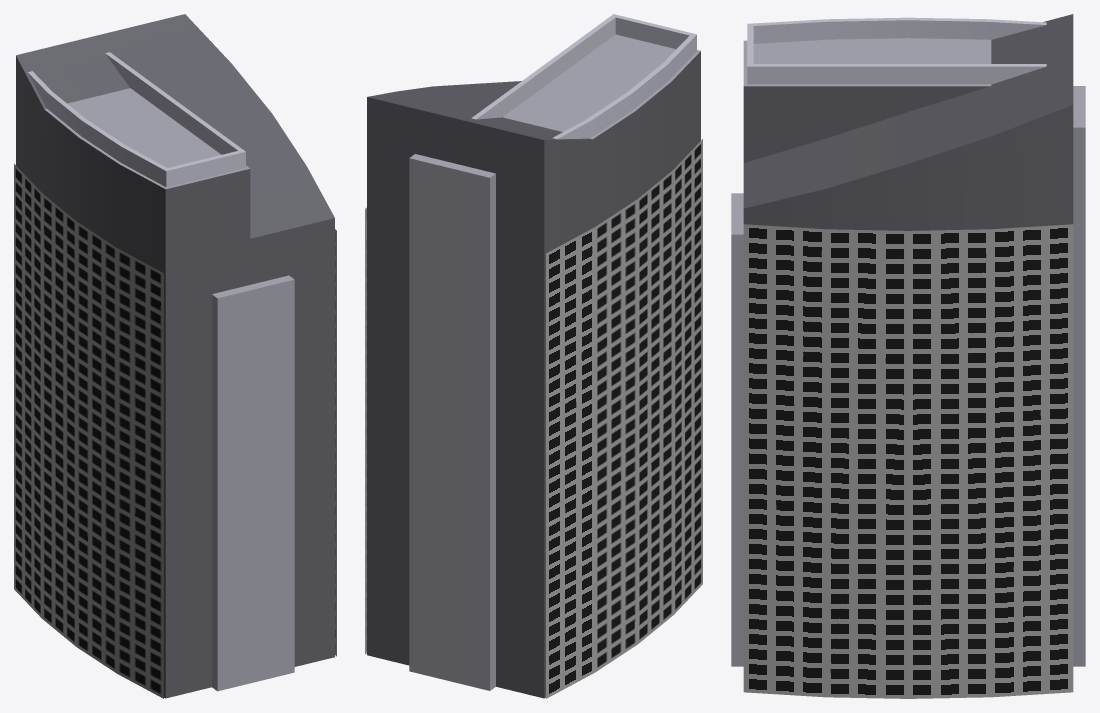
The model's file is Building_BM4.fbx.
The picture shows the model from 3 angles, left to right: view 1: azimuth 30°, elevation 25°; view 2: azimuth 150°, elevation 25°; view 3: azimuth 270°, elevation 25°; orthographic projection. The views are drawn at different scales.
Parts seen in each view (by area): view 1: Building_BM_4; view 2: Building_BM_4; view 3: Building_BM_4.
Part boxes in pixels (x1,y1,x2,y2): Building_BM_4: [14, 14, 336, 698]; Building_BM_4: [365, 14, 702, 698]; Building_BM_4: [731, 14, 1085, 698].
Size of the model in its own units: 3896 by 10041 by 5499.
